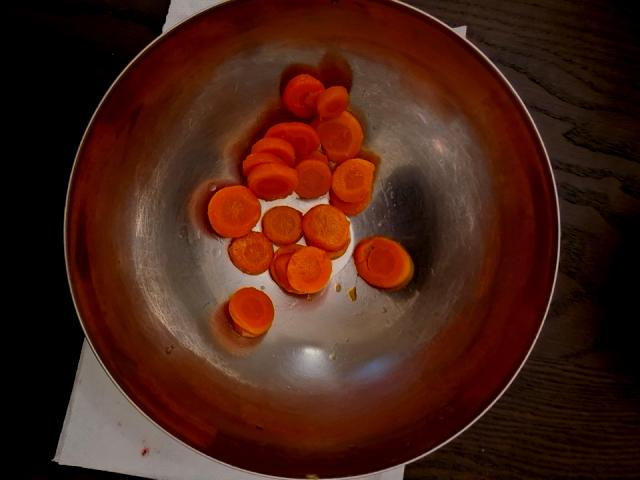kichen waste: (206, 74, 412, 336)
